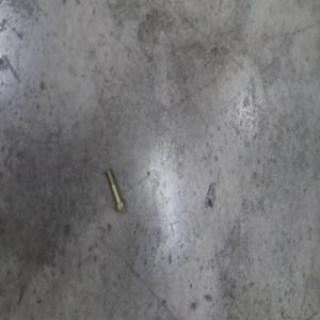Bolttrack_idkeyframe: (104, 166, 124, 213)
